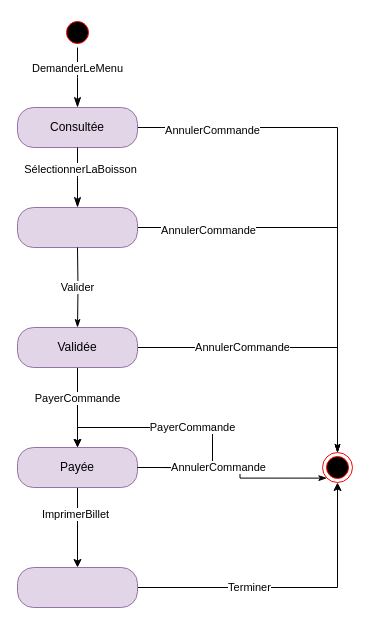
This 370x625 diagram has some shape labels left out. Each missing label, with the box of its shape:
Boisson Sélectionnée: (16, 206, 138, 248)
ClientServis: (16, 566, 138, 608)
